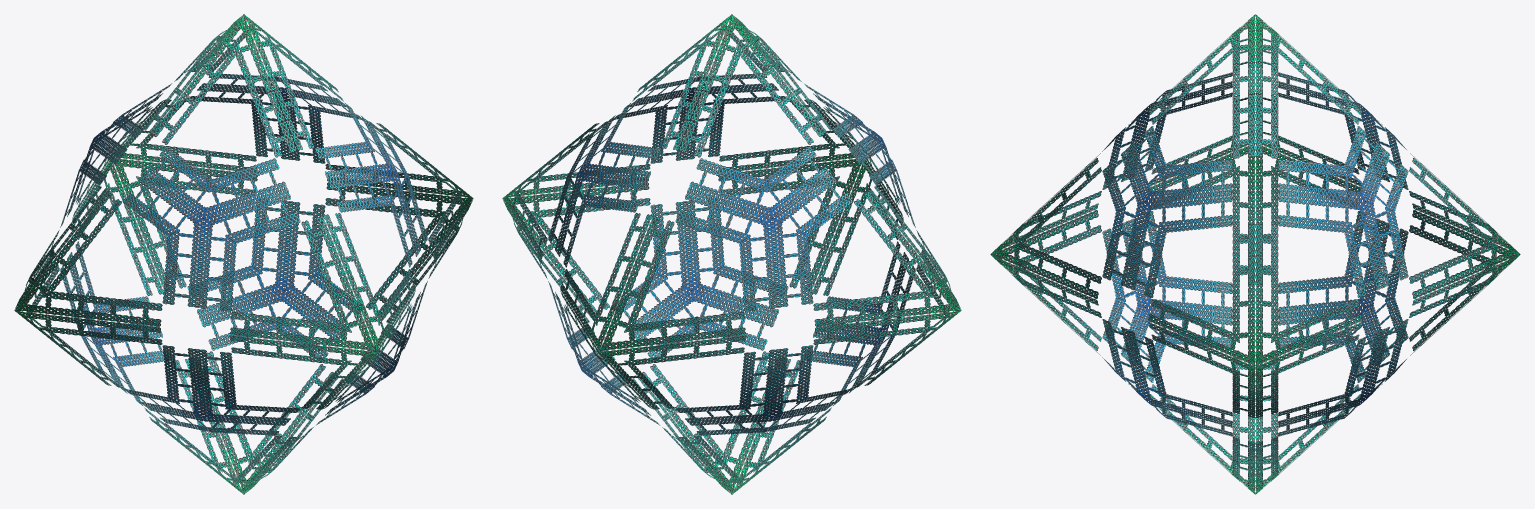
File: 22TriakisOctahedron.gltf
3 renders of one model, left to right at view 1: azimuth 30°, elevation 25°; view 2: azimuth 150°, elevation 25°; view 3: azimuth 270°, elevation 25°, orthographic.
Parts seen in each view (by area): view 1: TriakisOctahedron; view 2: TriakisOctahedron; view 3: TriakisOctahedron.
Part boxes in pixels (x1,y1,x2,y2): TriakisOctahedron: (14,14,473,494); TriakisOctahedron: (502,14,961,494); TriakisOctahedron: (990,14,1520,494).
Size of the model in its own units: 4.83 by 4.83 by 4.83.
Materials: 1 (1 with a texture image).
